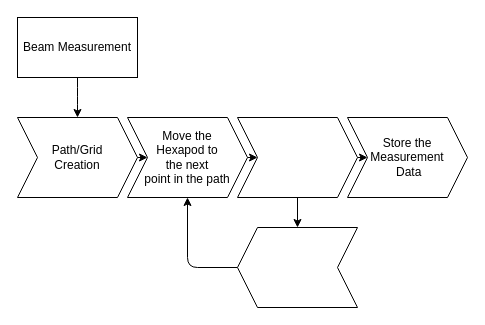
This 485x325 diagram has some shape labels left out. Here are the shapes that lost their labels. From the top down, the box of each, then its label:
(236, 116, 358, 198): Take a measurement with the Sensor
(236, 226, 358, 308): Repeat
